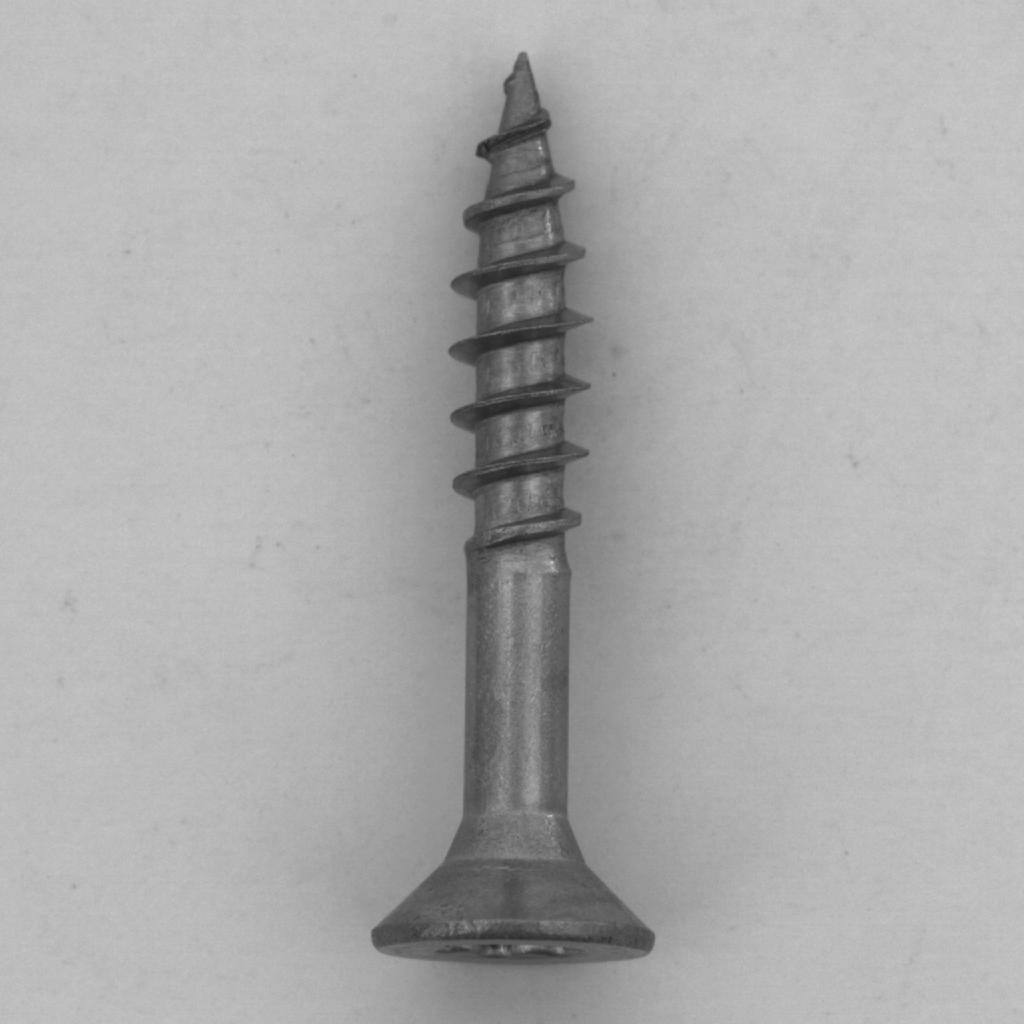good: (356, 43, 688, 983)
